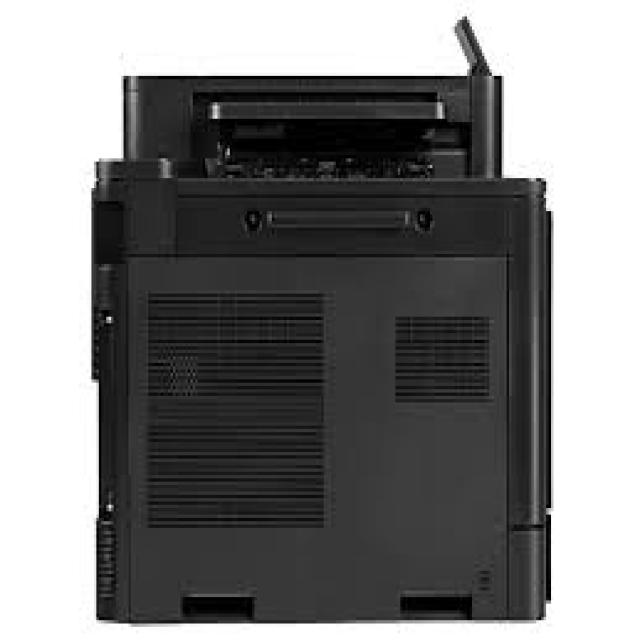printer: (89, 13, 553, 624)
